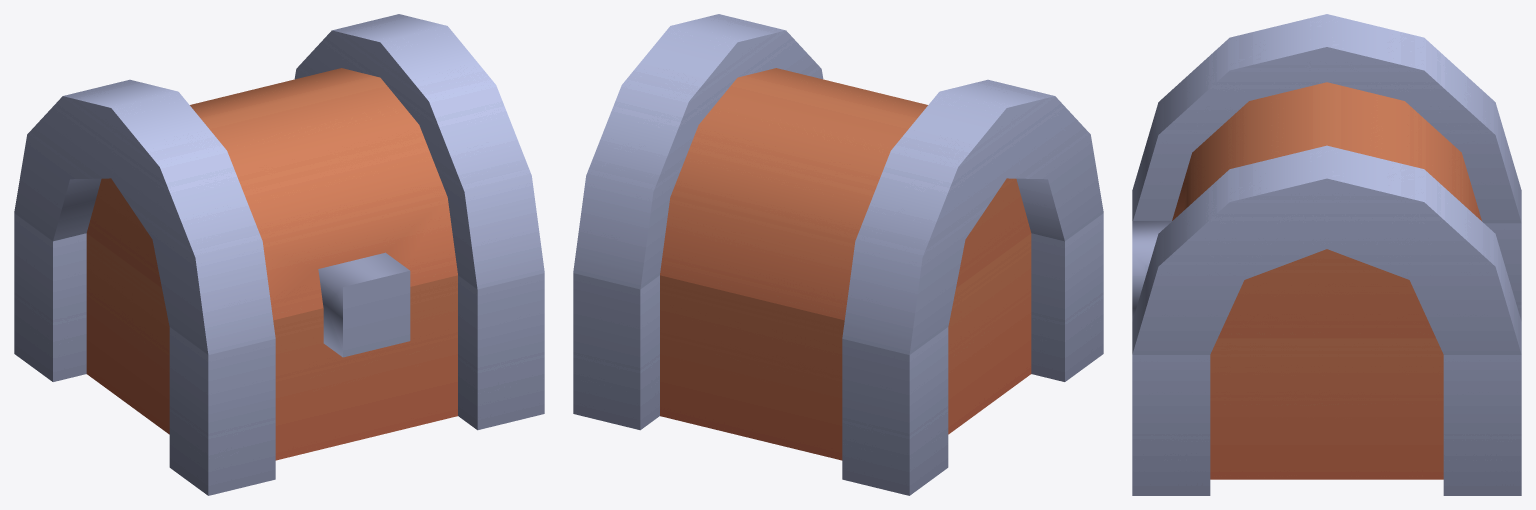
Rendered from chest_1.glb.
The picture shows the model from 3 angles, left to right: view 1: azimuth 30°, elevation 25°; view 2: azimuth 150°, elevation 25°; view 3: azimuth 270°, elevation 25°; orthographic projection.
Parts seen in each view (by area): view 1: lid, chest; view 2: lid, chest; view 3: lid, chest.
Boxes of the visible parts, <box> form: lid: <box>14,14,544,357</box>; chest: <box>14,213,544,495</box>; lid: <box>573,14,1103,354</box>; chest: <box>573,213,1103,495</box>; lid: <box>1132,14,1521,354</box>; chest: <box>1132,223,1521,495</box>.
Size of the model in its own units: 0.5 by 0.45 by 0.5.
1 material, 1 textured.
